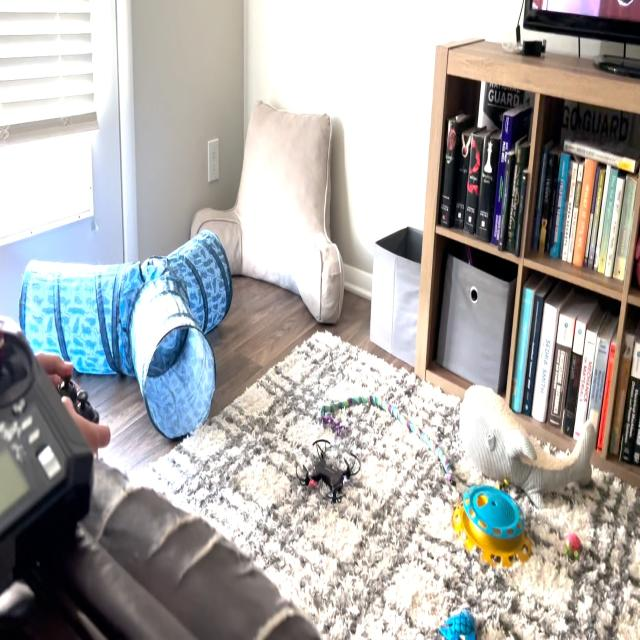drone: (289, 423, 368, 512)
